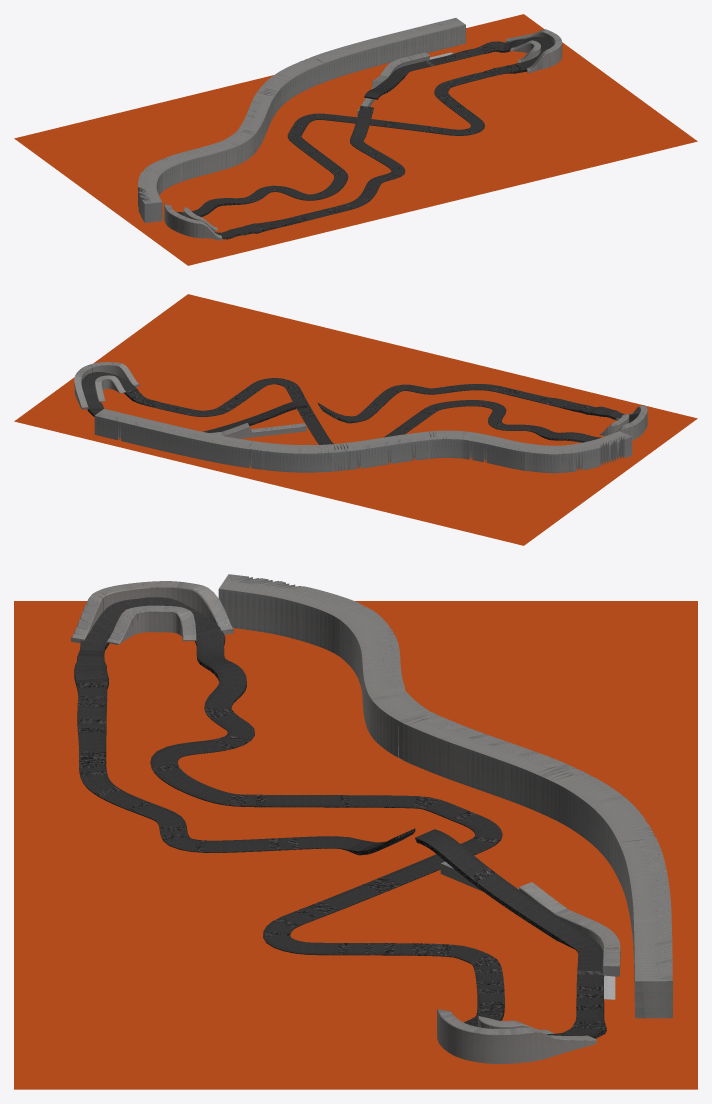
The model's file is race_track.obj.
3 views of the same model, one above another, from view 1: azimuth 30°, elevation 25°; view 2: azimuth 150°, elevation 25°; view 3: azimuth 270°, elevation 25° (orthographic). The views are drawn at different scales.
Parts seen in each view (by area): view 1: Plane.001_Plane.002, Cube.002_Cube.017, Plane, Wall_2.002_Cube.004, Wall_2.006_Cube.010, Wall_2.003_Cube.007; view 2: Plane.001_Plane.002, Cube.002_Cube.017, Plane, Wall_2.006_Cube.010, Wall_2.003_Cube.007, Wall_2.002_Cube.004, Wall_2.007_Cube.012; view 3: Plane.001_Plane.002, Plane, Cube.002_Cube.017, Wall_2.006_Cube.010, Wall_2.002_Cube.004, Wall_2.003_Cube.007, Wall_2.005_Cube.014.
Part boxes in pixels (x1=…): Plane.001_Plane.002: x1=14, y1=14, x2=697, y2=265; Cube.002_Cube.017: x1=138, y1=18, x2=465, y2=222; Plane: x1=176, y1=37, x2=554, y2=239; Wall_2.002_Cube.004: x1=164, y1=204, x2=222, y2=240; Wall_2.006_Cube.010: x1=505, y1=29, x2=562, y2=73; Wall_2.003_Cube.007: x1=357, y1=52, x2=429, y2=115; Plane.001_Plane.002: x1=14, y1=294, x2=697, y2=545; Cube.002_Cube.017: x1=94, y1=408, x2=632, y2=473; Plane: x1=81, y1=372, x2=638, y2=444; Wall_2.006_Cube.010: x1=74, y1=362, x2=139, y2=409; Wall_2.003_Cube.007: x1=210, y1=423, x2=306, y2=438; Wall_2.002_Cube.004: x1=616, y1=405, x2=647, y2=440; Wall_2.007_Cube.012: x1=95, y1=375, x2=126, y2=401; Plane.001_Plane.002: x1=14, y1=601, x2=697, y2=1089; Plane: x1=74, y1=597, x2=606, y2=1038; Cube.002_Cube.017: x1=218, y1=574, x2=672, y2=1018; Wall_2.006_Cube.010: x1=437, y1=1009, x2=596, y2=1063; Wall_2.002_Cube.004: x1=71, y1=581, x2=233, y2=643; Wall_2.003_Cube.007: x1=440, y1=861, x2=620, y2=976; Wall_2.005_Cube.014: x1=106, y1=605, x2=196, y2=644.
Size of the model in its own units: 4.91 by 0.2935 by 2.91.
